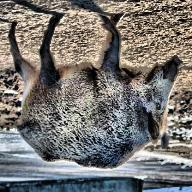boar: (3, 3, 185, 183)
